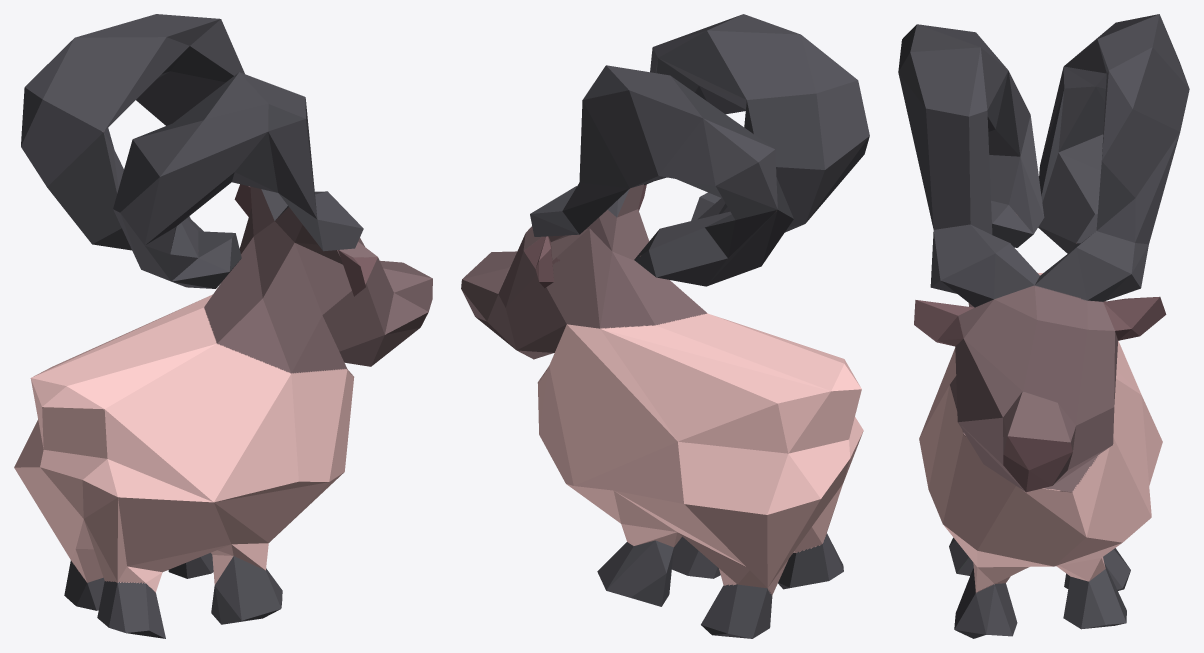
File: cabrita_000005.obj
The picture shows the model from 3 angles, left to right: view 1: azimuth 30°, elevation 25°; view 2: azimuth 150°, elevation 25°; view 3: azimuth 270°, elevation 25°; orthographic projection. The views are drawn at different scales.
Visible parts, largest first — view 1: cabra_Cube.067; view 2: cabra_Cube.067; view 3: cabra_Cube.067.
Part boxes in pixels (<box>): cabra_Cube.067: <box>14,14,432,638</box>; cabra_Cube.067: <box>461,14,869,638</box>; cabra_Cube.067: <box>898,14,1189,638</box>.
Size of the model in its own units: 42.45 by 57.71 by 26.27.
1 material, 1 textured.
